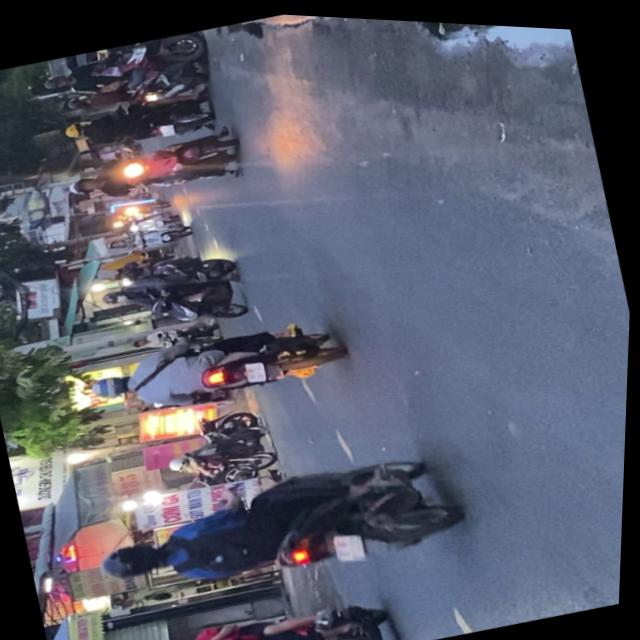helmet: (98, 533, 176, 588), (90, 371, 133, 403)
licenseplate: (86, 424, 477, 626), (84, 298, 352, 433), (155, 576, 411, 640)
motorcyclist: (162, 639, 208, 640)
nohelmet: (333, 526, 368, 563), (244, 358, 269, 383)
